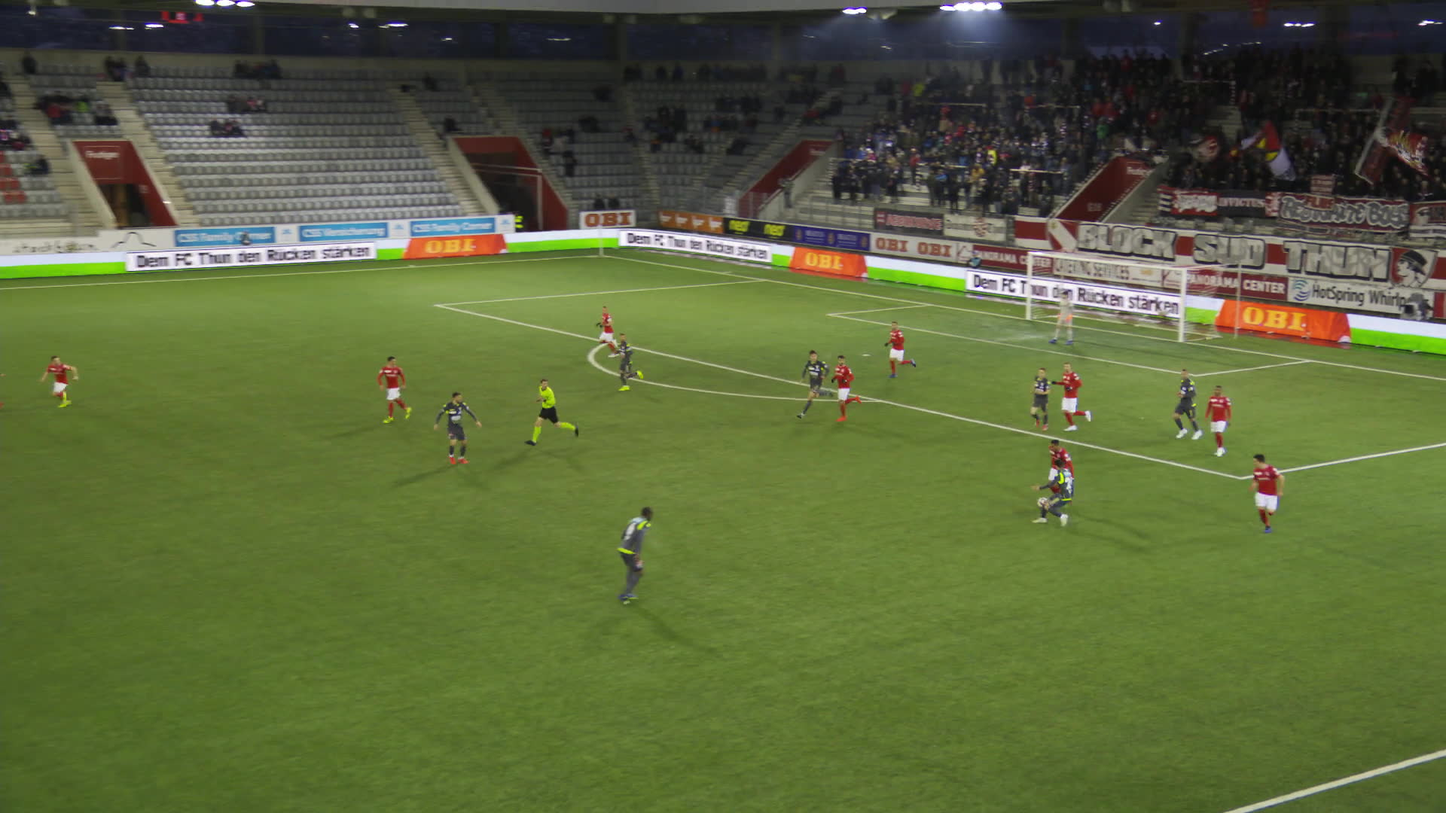ball: (1036, 495, 1050, 509)
player: (614, 505, 656, 604), (432, 390, 484, 467), (1024, 458, 1078, 529), (1246, 452, 1284, 534), (1049, 361, 1091, 431), (374, 354, 413, 425), (795, 349, 829, 419), (1169, 368, 1199, 443), (830, 354, 862, 422), (39, 354, 78, 409), (1199, 385, 1228, 457), (1045, 438, 1075, 503), (883, 320, 916, 378), (614, 332, 644, 392), (1029, 366, 1054, 431), (1047, 290, 1075, 346), (591, 305, 619, 356)
referee: (525, 379, 576, 447)
